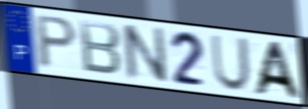2: (169, 28, 209, 90)
A: (250, 40, 304, 101)
B: (77, 18, 123, 78)
N: (120, 22, 170, 85)
P: (35, 14, 79, 71)
U: (209, 34, 252, 94)
